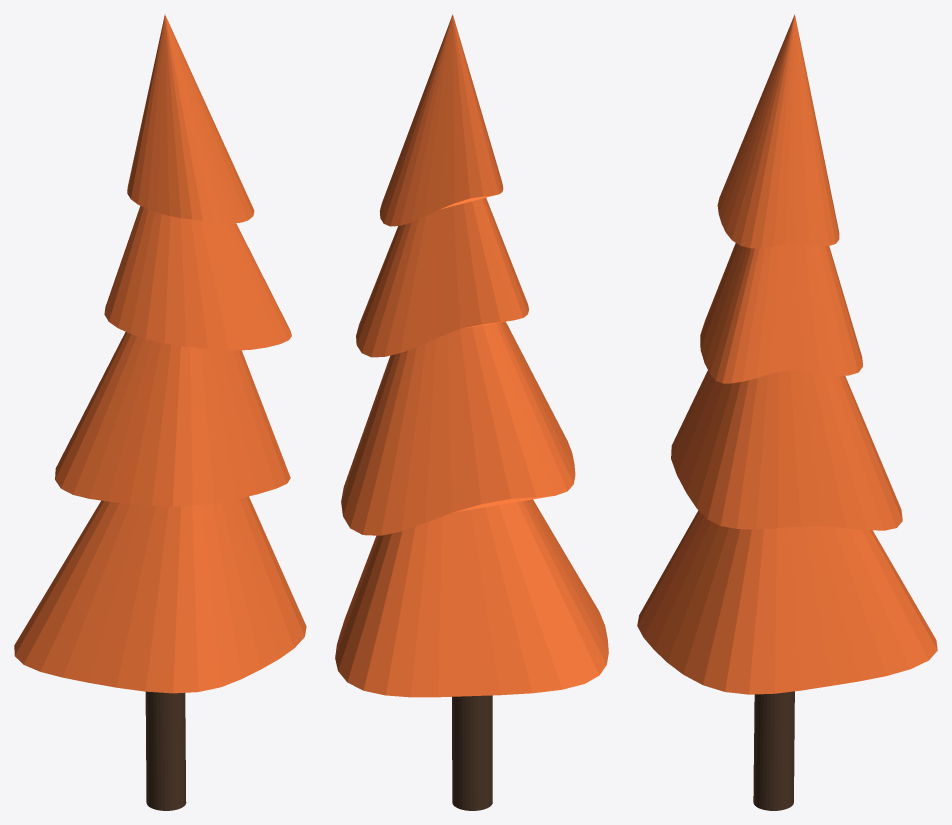
Rendered from Tree1.fbx.
The picture shows the model from 3 angles, left to right: view 1: azimuth 30°, elevation 25°; view 2: azimuth 150°, elevation 25°; view 3: azimuth 270°, elevation 25°; orthographic projection.
Parts seen in each view (by area): view 1: Cylinder.001; view 2: Cylinder.001; view 3: Cylinder.001.
Part boxes in pixels (left/top/right/bottom): Cylinder.001: left=14, top=14, right=306, bottom=810; Cylinder.001: left=335, top=14, right=608, bottom=810; Cylinder.001: left=637, top=14, right=937, bottom=810.
Size of the model in its own units: 165 by 483 by 166.
